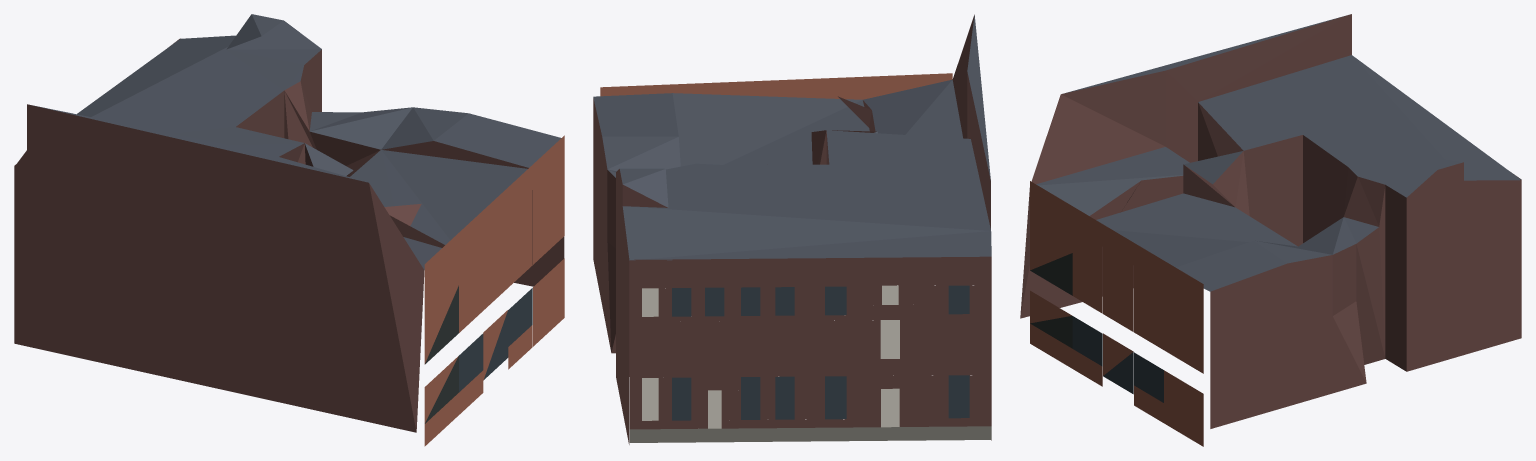
Rendered from universiteitstheater.lod2.glb.
The picture shows the model from 3 angles, left to right: view 1: azimuth 30°, elevation 25°; view 2: azimuth 150°, elevation 25°; view 3: azimuth 270°, elevation 25°; orthographic projection. The views are drawn at different scales.
Visible parts, largest first — view 1: lod2; view 2: lod2; view 3: lod2.
Boxes of the visible parts, <box> form: lod2: <box>14,14,564,446</box>; lod2: <box>593,14,991,444</box>; lod2: <box>1020,14,1521,446</box>.
Size of the model in its own units: 39.35 by 21.34 by 41.26.
